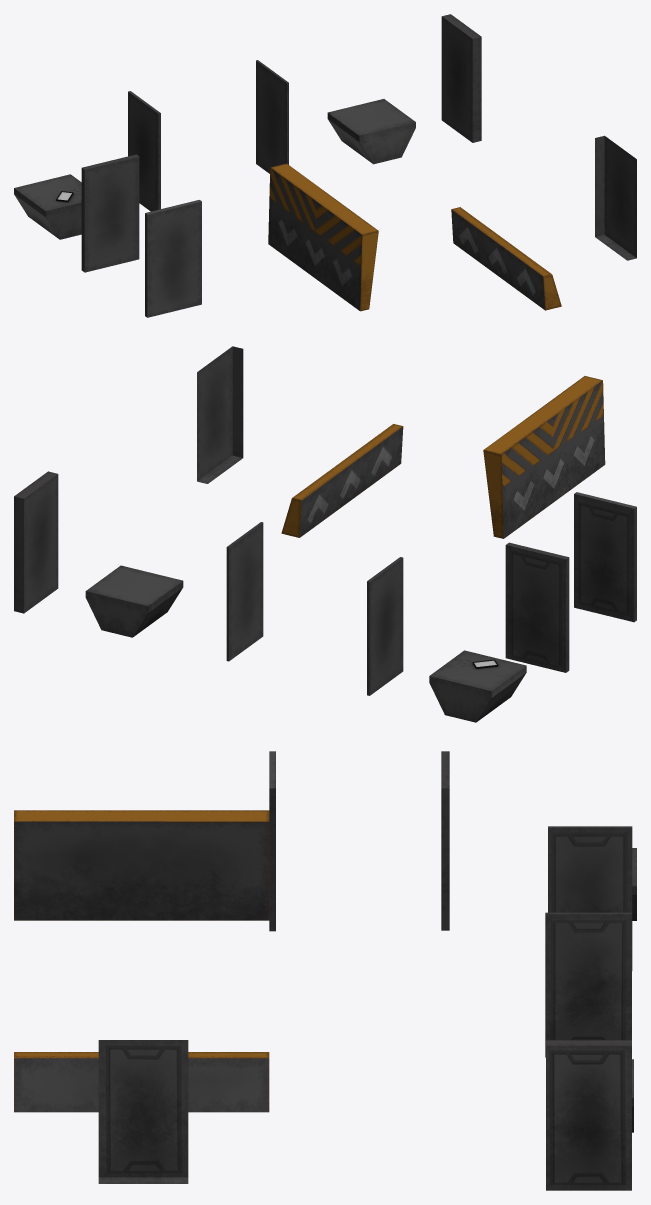
Rendered from BuildingProps.fbx.
3 renders of one model, top to bottom at view 1: azimuth 30°, elevation 25°; view 2: azimuth 150°, elevation 25°; view 3: azimuth 270°, elevation 25°, orthographic. The views are drawn at different scales.
Parts seen in each view (by area): view 1: CrouchBarrier, Door4, Door5, FirstDoor, LastDoor, JumpBarrier, Table1, Door2, Table2, Door3; view 2: CrouchBarrier, Door4, Door5, LastDoor, FirstDoor, JumpBarrier, Table1, Table2, Door2, Door3; view 3: CrouchBarrier, LastDoor, FirstDoor, Door2, JumpBarrier, Door3, Door4, Door5.
Part boxes in pixels (x1,y1,x2,y2): CrouchBarrier: (268,163,378,311); Door4: (81,154,139,272); Door5: (145,200,201,317); FirstDoor: (441,14,481,142); LastDoor: (595,135,636,260); JumpBarrier: (451,207,561,310); Table1: (327,99,415,164); Door2: (256,60,288,173); Table2: (14,174,81,239); Door3: (128,91,160,211); CrouchBarrier: (483,376,605,538); Door4: (505,542,569,672); Door5: (574,492,636,622); LastDoor: (197,346,243,483); FirstDoor: (14,471,58,613); JumpBarrier: (281,424,403,537); Table1: (85,565,183,637); Table2: (429,650,526,722); Door2: (226,522,263,661); Door3: (367,557,403,695); CrouchBarrier: (14,810,269,920); LastDoor: (98,1040,188,1183); FirstDoor: (546,1040,631,1190); Door2: (545,912,631,1057); JumpBarrier: (14,1052,269,1112); Door3: (548,826,632,970); Door4: (441,751,449,930); Door5: (269,751,275,931).
Size of the model in its own units: 386 by 104 by 346.
